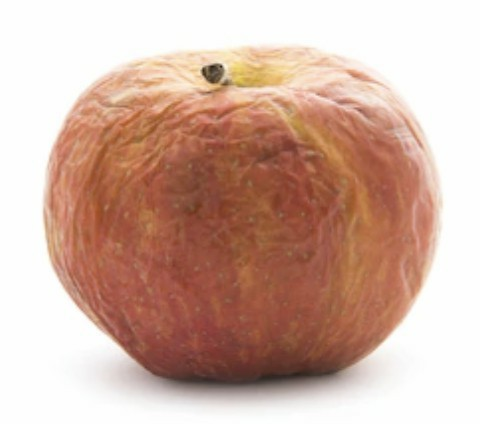rotten_apple: (42, 45, 441, 387)
